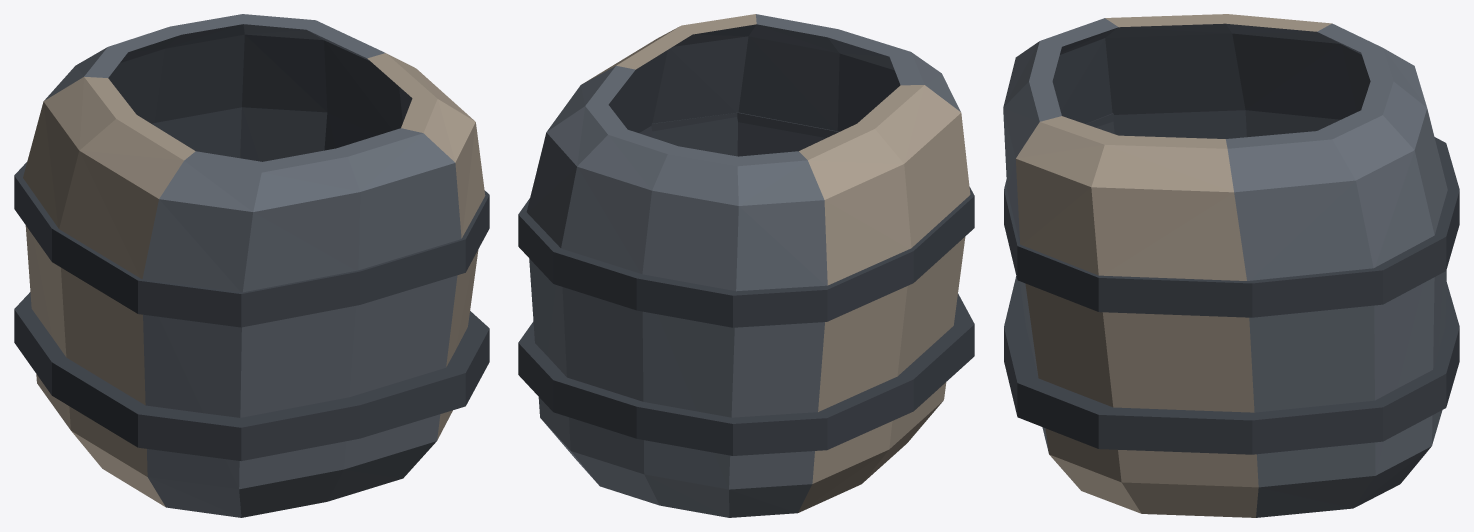
File: thigh_heavy.glb
3 views of the same model, side by side, from view 1: azimuth 30°, elevation 25°; view 2: azimuth 150°, elevation 25°; view 3: azimuth 270°, elevation 25° (orthographic). The views are drawn at different scales.
Parts seen in each view (by area): view 1: thigh_heavy; view 2: thigh_heavy; view 3: thigh_heavy.
Boxes of the visible parts, <box> form: thigh_heavy: <box>14,14,489,517</box>; thigh_heavy: <box>518,14,974,517</box>; thigh_heavy: <box>1003,14,1459,517</box>.
Bounding box in the file's own units: 1.05 × 0.97 × 1.09.
